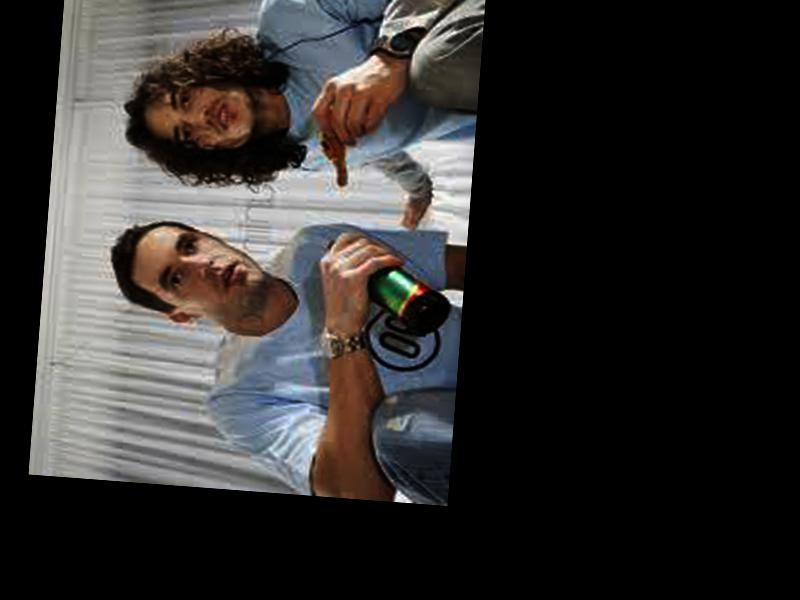Beer: (320, 239, 455, 338)
